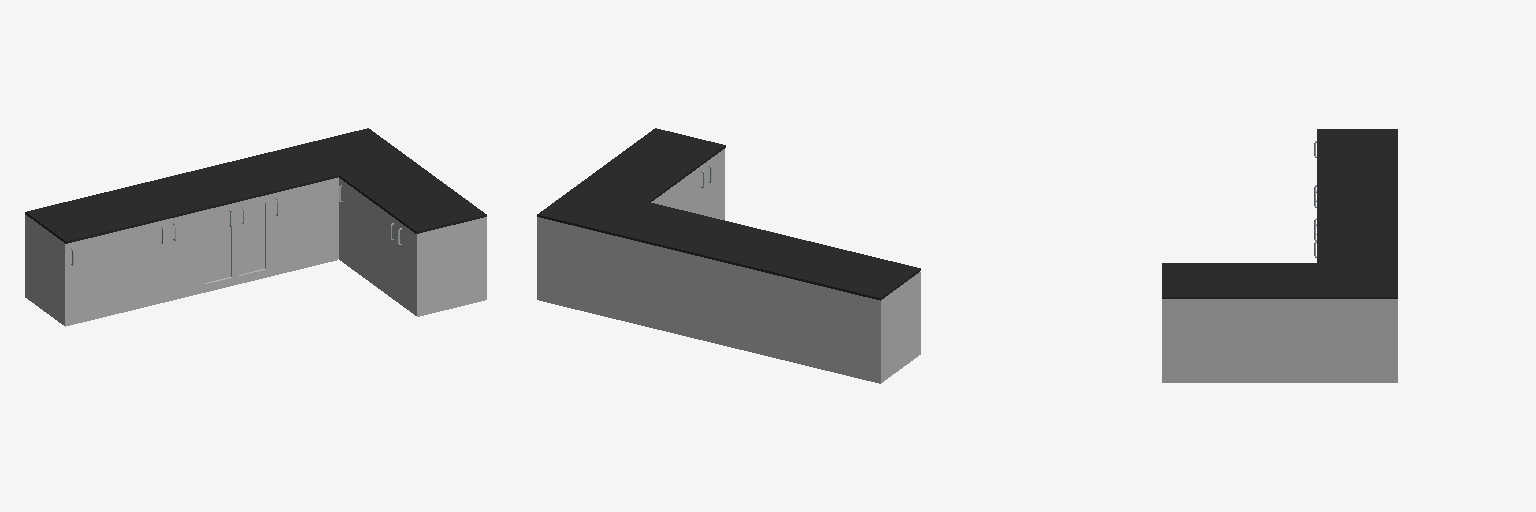
Rendered from LShapeCorner.obj.
3 views of the same model, side by side, from view 1: azimuth 30°, elevation 25°; view 2: azimuth 150°, elevation 25°; view 3: azimuth 270°, elevation 25° (orthographic).
Visible parts, largest first — view 1: Cabinet1_Door, Cabinet2.001, Cabinet4_Door, Countertop1.001, Cabinet1, Cabinet1_Door.001, Countertop2.001, Countertop1, Countertop3, Countertop2, Cabinet2_Door_L, Countertop4 (+5 smaller); view 2: Cabinet1, Cabinet5, Countertop1.001, Cabinet4, Cabinet2, Cabinet3, Countertop1, Countertop3, Countertop4, Countertop2, Countertop2.001, Cabinet2_Door_R.001 (+2 smaller); view 3: Cabinet5, Cabinet2.001, Cabinet1.001, Countertop1.001, Countertop2.001, Countertop1, Countertop4, Countertop2, Countertop3.
Boxes of the visible parts, x1=… form: Cabinet1_Door: x1=64, y1=228, x2=132, y2=326; Cabinet2.001: x1=419, y1=217, x2=486, y2=315; Cabinet4_Door: x1=270, y1=178, x2=337, y2=276; Countertop1.001: x1=298, y1=128, x2=446, y2=204; Cabinet1: x1=25, y1=214, x2=63, y2=324; Cabinet1_Door.001: x1=339, y1=178, x2=377, y2=287; Countertop2.001: x1=377, y1=186, x2=486, y2=233; Countertop1: x1=25, y1=195, x2=133, y2=243; Countertop3: x1=162, y1=162, x2=270, y2=210; Countertop2: x1=94, y1=179, x2=201, y2=226; Cabinet2_Door_L: x1=133, y1=219, x2=167, y2=309; Countertop4: x1=231, y1=145, x2=338, y2=193; Cabinet1: x1=812, y1=273, x2=918, y2=383; Cabinet5: x1=537, y1=217, x2=607, y2=316; Countertop1.001: x1=537, y1=157, x2=686, y2=233; Cabinet4: x1=608, y1=234, x2=675, y2=333; Cabinet2: x1=744, y1=267, x2=811, y2=366; Cabinet3: x1=676, y1=251, x2=743, y2=349; Countertop1: x1=812, y1=252, x2=920, y2=300; Countertop3: x1=676, y1=219, x2=783, y2=266; Countertop4: x1=608, y1=202, x2=715, y2=250; Countertop2: x1=744, y1=235, x2=851, y2=283; Countertop2.001: x1=617, y1=128, x2=725, y2=175; Cabinet2_Door_R.001: x1=705, y1=149, x2=724, y2=219; Cabinet5: x1=1319, y1=299, x2=1397, y2=382; Cabinet2.001: x1=1162, y1=299, x2=1240, y2=382; Cabinet1.001: x1=1241, y1=299, x2=1318, y2=382; Countertop1.001: x1=1241, y1=263, x2=1397, y2=298; Countertop2.001: x1=1162, y1=263, x2=1240, y2=298; Countertop1: x1=1317, y1=129, x2=1397, y2=162; Countertop4: x1=1317, y1=229, x2=1397, y2=262; Countertop2: x1=1317, y1=163, x2=1397, y2=195; Countertop3: x1=1317, y1=196, x2=1397, y2=228.
Size of the model in its own units: 3.02 by 0.72 by 1.8.